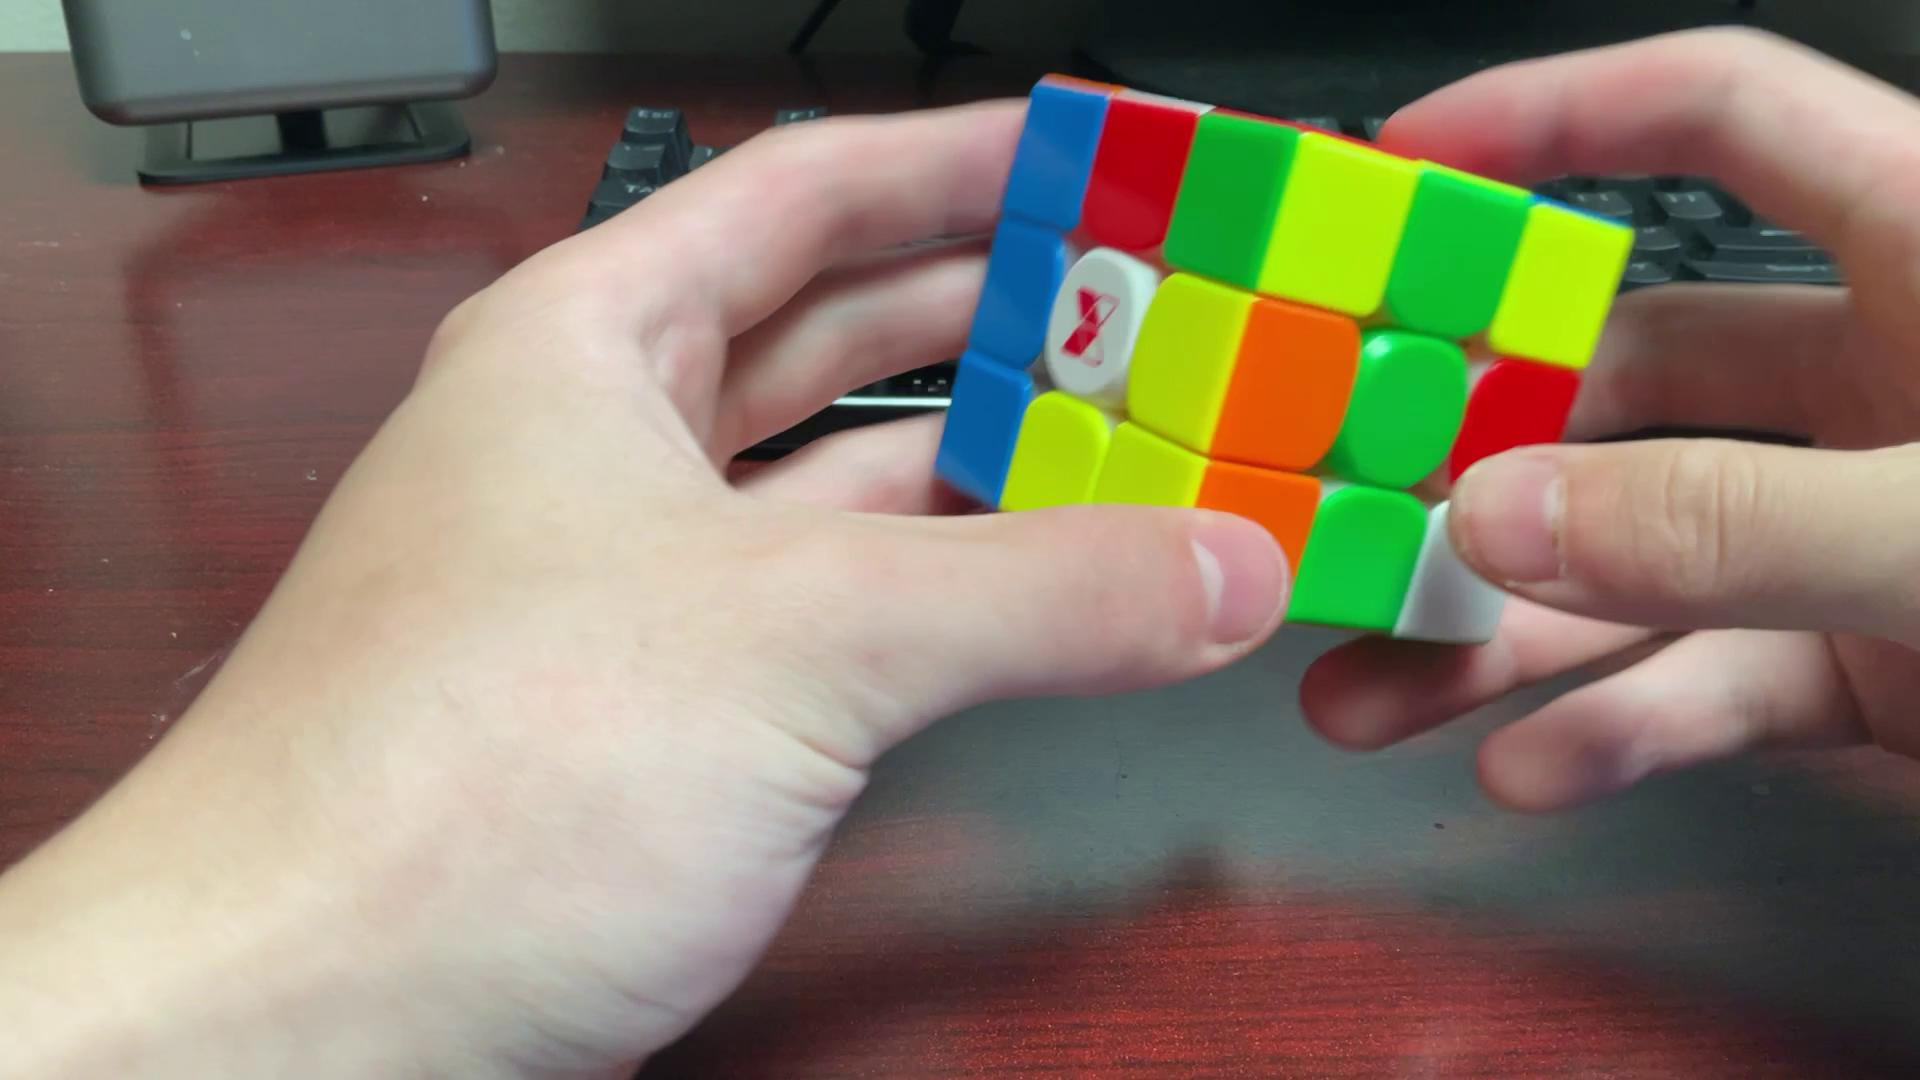Rubiks-Cube: (924, 54, 1646, 658)
